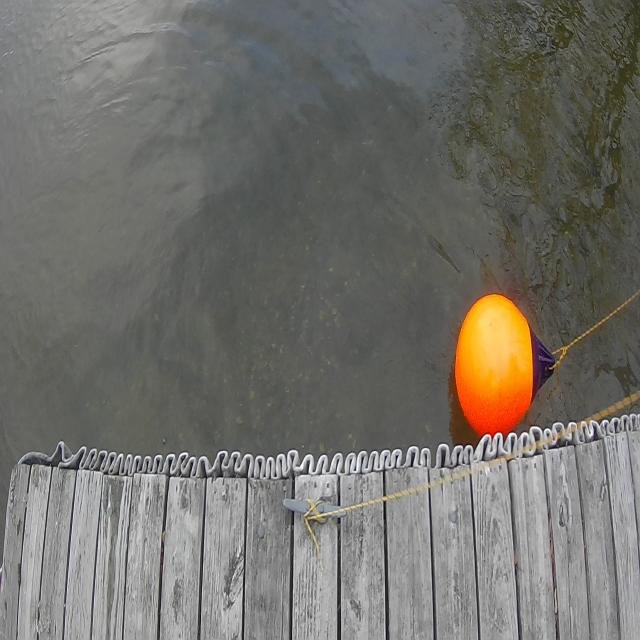Buoy: (444, 269, 563, 453)
